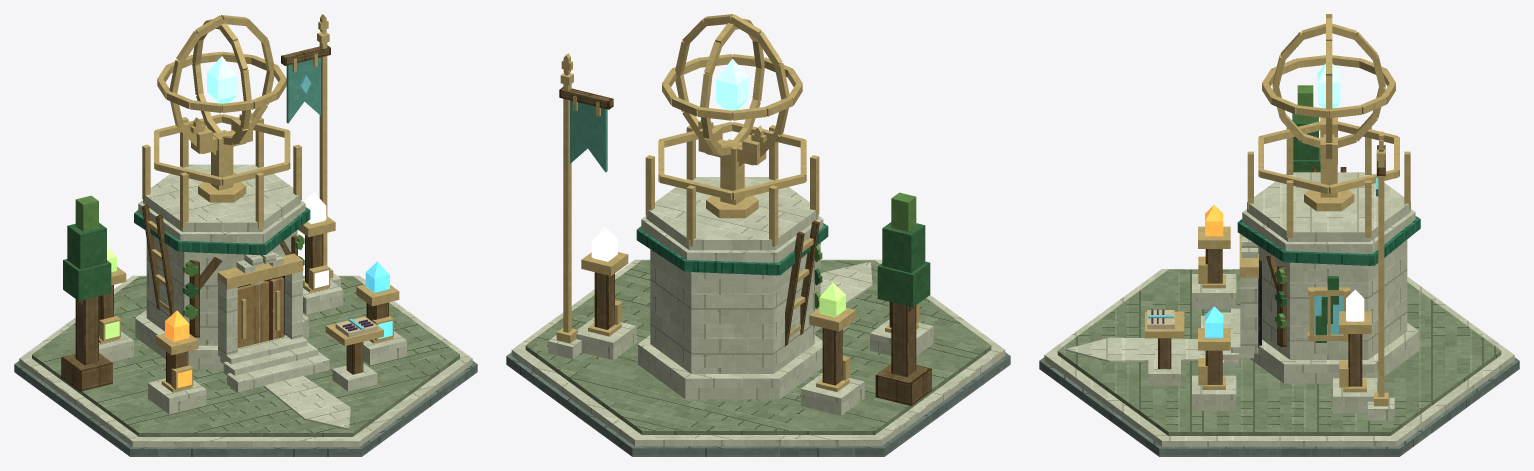
Rendered from elf_elemental_observatory_hex_v1.glb.
The picture shows the model from 3 angles, left to right: view 1: azimuth 30°, elevation 25°; view 2: azimuth 150°, elevation 25°; view 3: azimuth 270°, elevation 25°; orthographic projection. The views are drawn at different scales.
Parts seen in each view (by area): view 1: Elf_Elemental_Observatory_Hex_V1_Foundation, Elf_Elemental_Observatory_Hex_V1_Focus, Elf_Elemental_Observatory_Hex_V1_Roofs, Elf_Elemental_Observatory_Hex_V1_Hall, Elf_Elemental_Observatory_Hex_V1_Courtyard, Elf_Elemental_Observatory_Hex_V1_Details, Elf_Elemental_Observatory_Hex_V1_Faction, Elf_Elemental_Observatory_Hex_V1_Training; view 2: Elf_Elemental_Observatory_Hex_V1_Foundation, Elf_Elemental_Observatory_Hex_V1_Focus, Elf_Elemental_Observatory_Hex_V1_Hall, Elf_Elemental_Observatory_Hex_V1_Roofs, Elf_Elemental_Observatory_Hex_V1_Faction, Elf_Elemental_Observatory_Hex_V1_Details, Elf_Elemental_Observatory_Hex_V1_Courtyard; view 3: Elf_Elemental_Observatory_Hex_V1_Foundation, Elf_Elemental_Observatory_Hex_V1_Focus, Elf_Elemental_Observatory_Hex_V1_Hall, Elf_Elemental_Observatory_Hex_V1_Roofs, Elf_Elemental_Observatory_Hex_V1_Courtyard, Elf_Elemental_Observatory_Hex_V1_Details, Elf_Elemental_Observatory_Hex_V1_Faction, Elf_Elemental_Observatory_Hex_V1_Training.
Boxes of the visible parts, bbox=[...] form: Elf_Elemental_Observatory_Hex_V1_Foundation: bbox=[14, 275, 477, 456]; Elf_Elemental_Observatory_Hex_V1_Focus: bbox=[61, 15, 406, 414]; Elf_Elemental_Observatory_Hex_V1_Roofs: bbox=[134, 114, 310, 255]; Elf_Elemental_Observatory_Hex_V1_Hall: bbox=[135, 230, 308, 368]; Elf_Elemental_Observatory_Hex_V1_Courtyard: bbox=[220, 335, 350, 429]; Elf_Elemental_Observatory_Hex_V1_Details: bbox=[142, 14, 328, 338]; Elf_Elemental_Observatory_Hex_V1_Faction: bbox=[281, 32, 340, 287]; Elf_Elemental_Observatory_Hex_V1_Training: bbox=[105, 270, 392, 391]; Elf_Elemental_Observatory_Hex_V1_Foundation: bbox=[506, 259, 1010, 456]; Elf_Elemental_Observatory_Hex_V1_Focus: bbox=[576, 14, 933, 415]; Elf_Elemental_Observatory_Hex_V1_Hall: bbox=[638, 243, 822, 399]; Elf_Elemental_Observatory_Hex_V1_Roofs: bbox=[636, 122, 828, 275]; Elf_Elemental_Observatory_Hex_V1_Faction: bbox=[548, 73, 613, 359]; Elf_Elemental_Observatory_Hex_V1_Details: bbox=[561, 53, 822, 346]; Elf_Elemental_Observatory_Hex_V1_Courtyard: bbox=[814, 261, 872, 333]; Elf_Elemental_Observatory_Hex_V1_Foundation: bbox=[1039, 269, 1519, 456]; Elf_Elemental_Observatory_Hex_V1_Focus: bbox=[1192, 14, 1395, 413]; Elf_Elemental_Observatory_Hex_V1_Hall: bbox=[1239, 234, 1419, 383]; Elf_Elemental_Observatory_Hex_V1_Roofs: bbox=[1237, 121, 1420, 265]; Elf_Elemental_Observatory_Hex_V1_Courtyard: bbox=[1065, 308, 1253, 372]; Elf_Elemental_Observatory_Hex_V1_Details: bbox=[1266, 131, 1383, 346]; Elf_Elemental_Observatory_Hex_V1_Faction: bbox=[1368, 145, 1394, 420]; Elf_Elemental_Observatory_Hex_V1_Training: bbox=[1145, 309, 1184, 385].
Size of the model in its own units: 1.59 by 1.48 by 1.84.
Materials: 1 (1 with a texture image).
